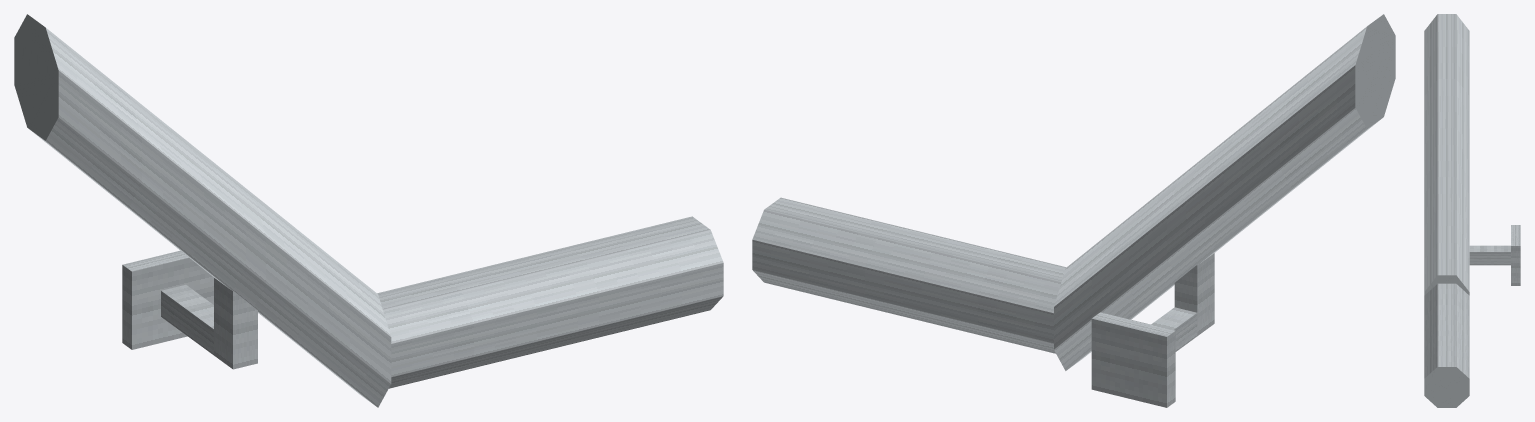
Rendered from foot_neg.obj.
3 renders of one model, left to right at view 1: azimuth 30°, elevation 25°; view 2: azimuth 150°, elevation 25°; view 3: azimuth 270°, elevation 25°, orthographic. The views are drawn at different scales.
Parts seen in each view (by area): view 1: handrail_wall_stainless_round_foot_neg; view 2: handrail_wall_stainless_round_foot_neg; view 3: handrail_wall_stainless_round_foot_neg.
Boxes of the visible parts, left/top/right/bottom form: handrail_wall_stainless_round_foot_neg: left=14, top=14, right=723, bottom=407; handrail_wall_stainless_round_foot_neg: left=752, top=14, right=1395, bottom=407; handrail_wall_stainless_round_foot_neg: left=1424, top=14, right=1520, bottom=407.
Bounding box in the file's own units: 1 × 0.6633 × 0.2452.
